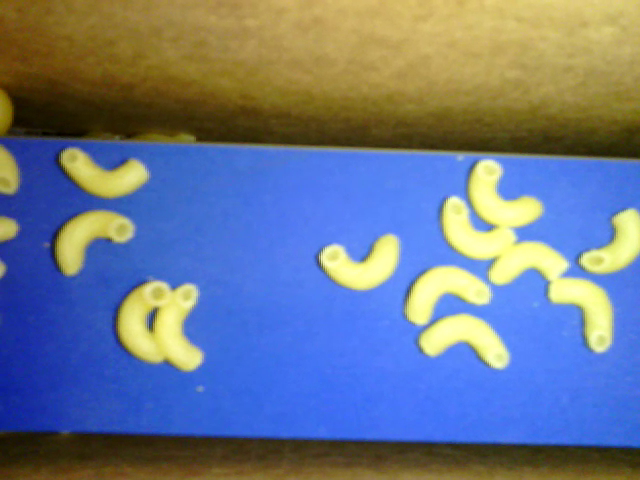elbow: (416, 311, 510, 375), (52, 211, 134, 277), (405, 265, 492, 327), (466, 161, 545, 229), (437, 196, 519, 261), (547, 278, 614, 355), (114, 280, 175, 364), (58, 146, 148, 200), (153, 281, 205, 372), (318, 236, 402, 292), (487, 239, 571, 288), (576, 211, 639, 274), (1, 145, 22, 191)
